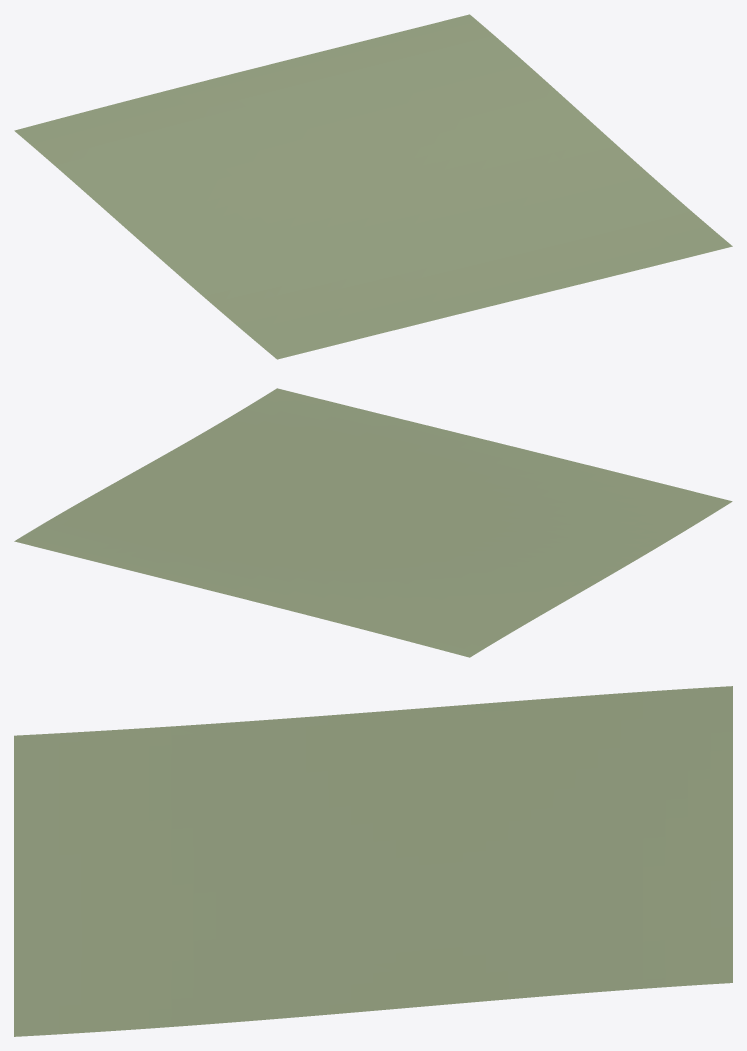
File: desert-22-23.glb
3 views of the same model, one above another, from view 1: azimuth 30°, elevation 25°; view 2: azimuth 150°, elevation 25°; view 3: azimuth 270°, elevation 25° (orthographic). The views are drawn at different scales.
Parts seen in each view (by area): view 1: desert-22-23; view 2: desert-22-23; view 3: desert-22-23.
Part boxes in pixels (x1,y1,x2,y2): desert-22-23: [14, 14, 732, 359]; desert-22-23: [14, 388, 732, 657]; desert-22-23: [14, 686, 732, 1036].
Bounding box in the file's own units: 512 × 44.42 × 512.
